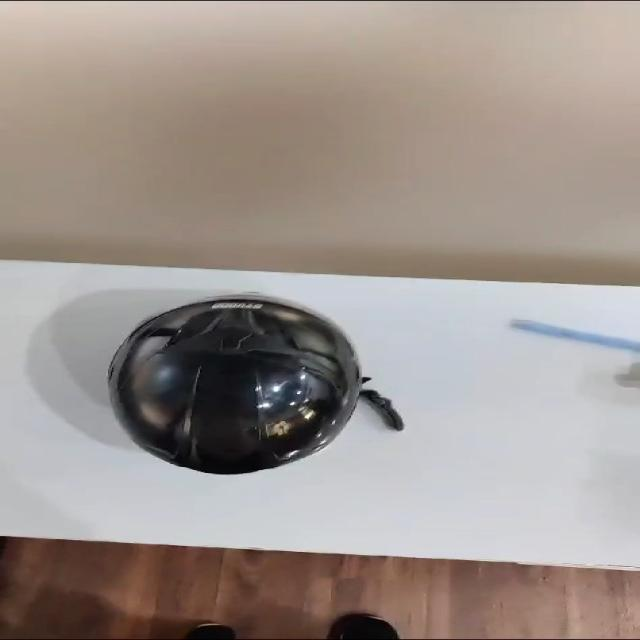helmet: (106, 293, 366, 473)
